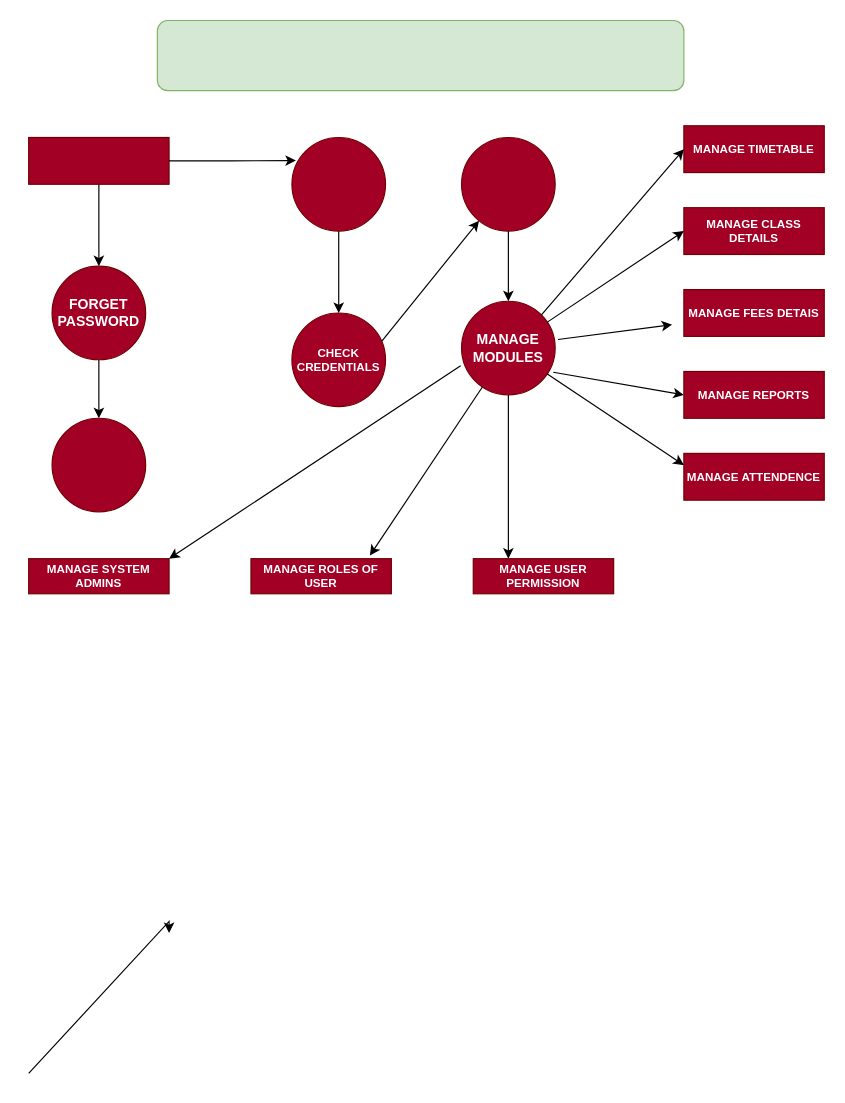
Some shapes in this 845 by 1103 pixel diagram are drawn without their labels. The shapes that lost their labels are listed below. From the top down, each one's centre as x and y in pixels, then its label:
point (420, 55): STUDENT INFORMATION SYSYTEM
point (98, 160): ADMIN
point (338, 183): LOGIN TO CHECK
point (507, 183): CHECK ROLES OF ACCESS
point (98, 464): SEND EMAIL TO USER
